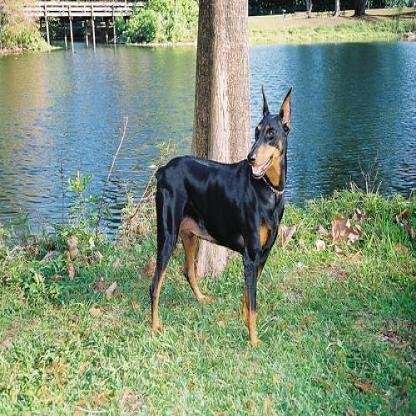Doberman: (148, 82, 292, 344)
